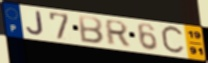6: (136, 23, 159, 52)
7: (48, 11, 70, 40)
B: (78, 15, 105, 46)
C: (160, 25, 187, 56)
J: (25, 10, 45, 37)
R: (105, 19, 131, 48)
